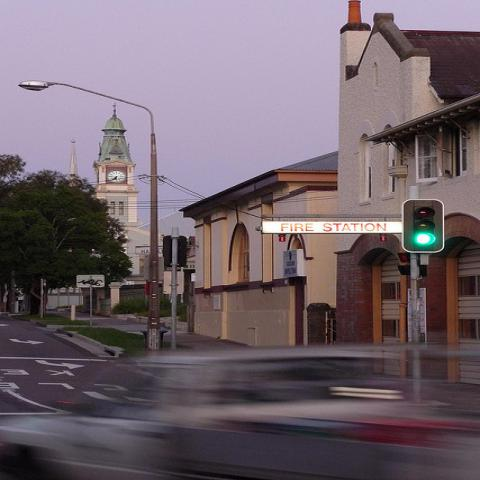car: (3, 398, 479, 480)
